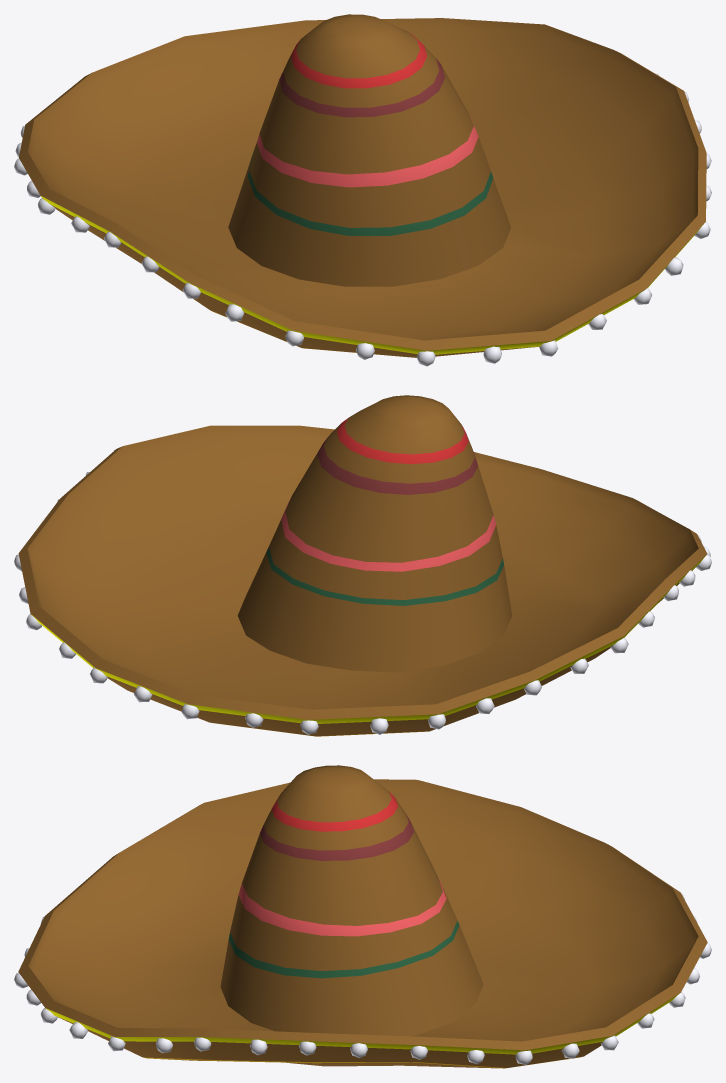
Rendered from Hat_16_02.fbx.
3 renders of one model, top to bottom at view 1: azimuth 30°, elevation 25°; view 2: azimuth 150°, elevation 25°; view 3: azimuth 270°, elevation 25°, orthographic. The views are drawn at different scales.
Parts seen in each view (by area): view 1: Hat_16_02; view 2: Hat_16_02; view 3: Hat_16_02.
Part boxes in pixels (x1,y1,x2,y2): Hat_16_02: (14, 14, 711, 366); Hat_16_02: (14, 395, 711, 736); Hat_16_02: (14, 765, 711, 1068).
Size of the model in its own units: 87.01 by 33.9 by 95.64.
